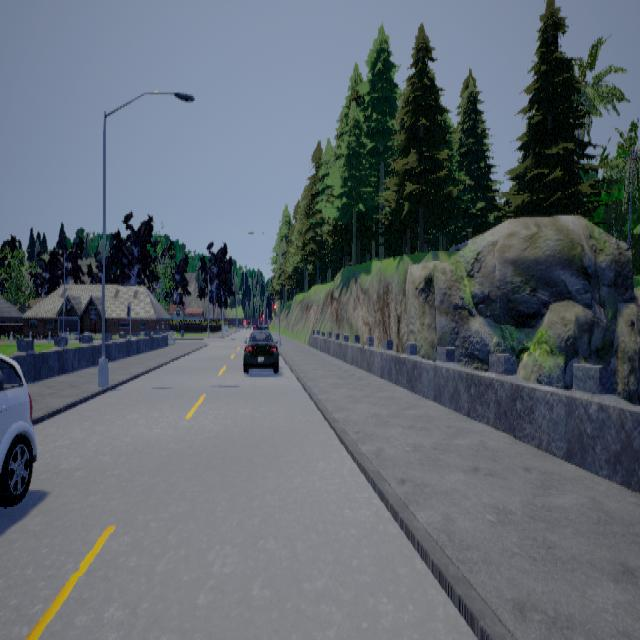vehicle: (0, 352, 36, 507), (242, 323, 278, 372)
